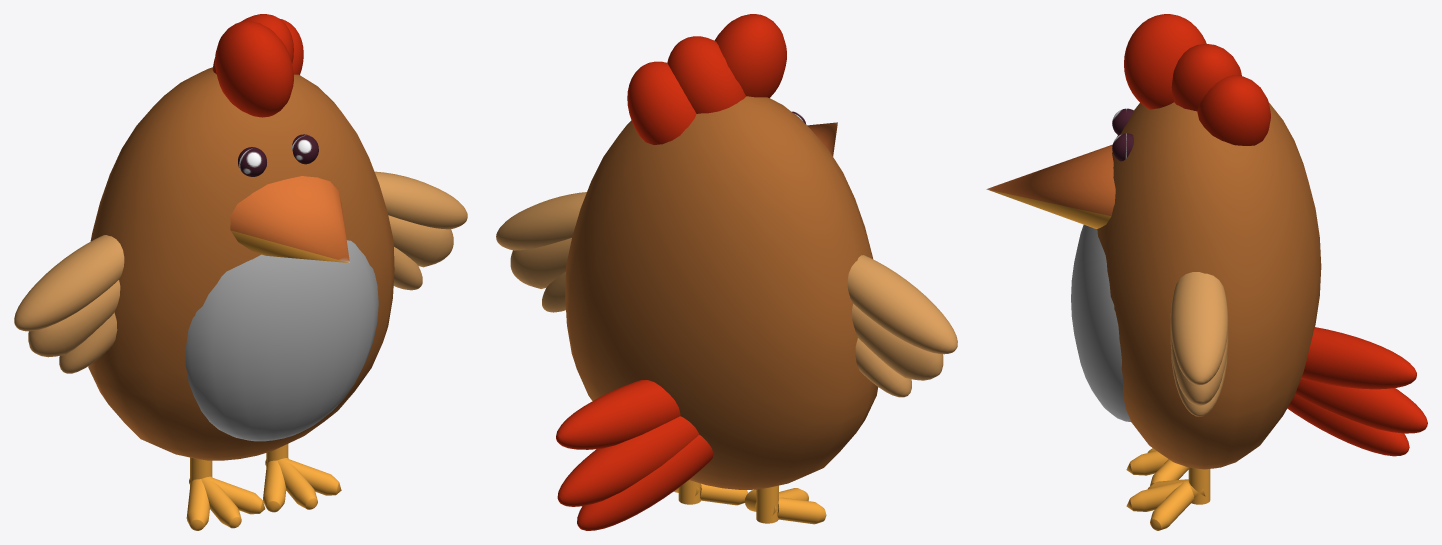
The model's file is uploads_files_3881253_Chicken_Low.fbx.
The picture shows the model from 3 angles, left to right: view 1: azimuth 30°, elevation 25°; view 2: azimuth 150°, elevation 25°; view 3: azimuth 270°, elevation 25°; orthographic projection. The views are drawn at different scales.
Visible parts, largest first — view 1: Chicken; view 2: Chicken; view 3: Chicken.
Part boxes in pixels (x1,y1,x2,y2): Chicken: (14,14,467,530); Chicken: (496,14,957,530); Chicken: (986,14,1427,530).
Size of the model in its own units: 7.23 by 7.46 by 6.27.
Materials: 2 (1 with a texture image).
